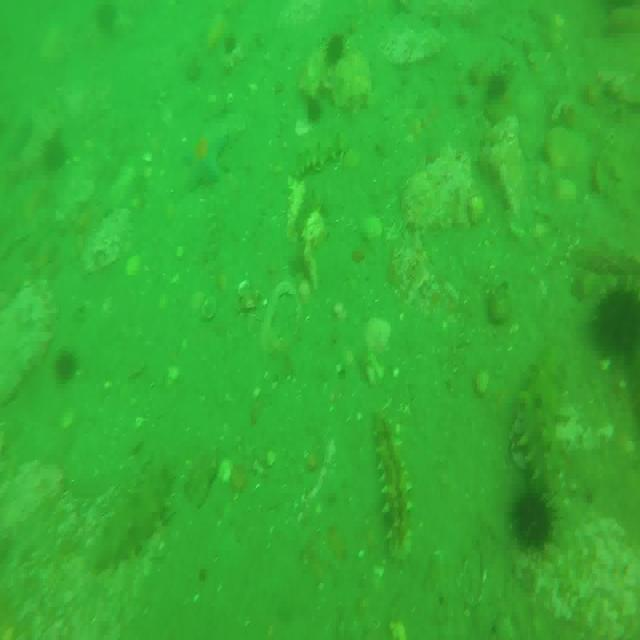echinus: (596, 286, 640, 361), (514, 491, 554, 548), (52, 347, 76, 383)
holothurian: (516, 342, 569, 514), (95, 466, 175, 570), (370, 411, 413, 558), (288, 126, 350, 182)
starfish: (183, 132, 225, 194)
